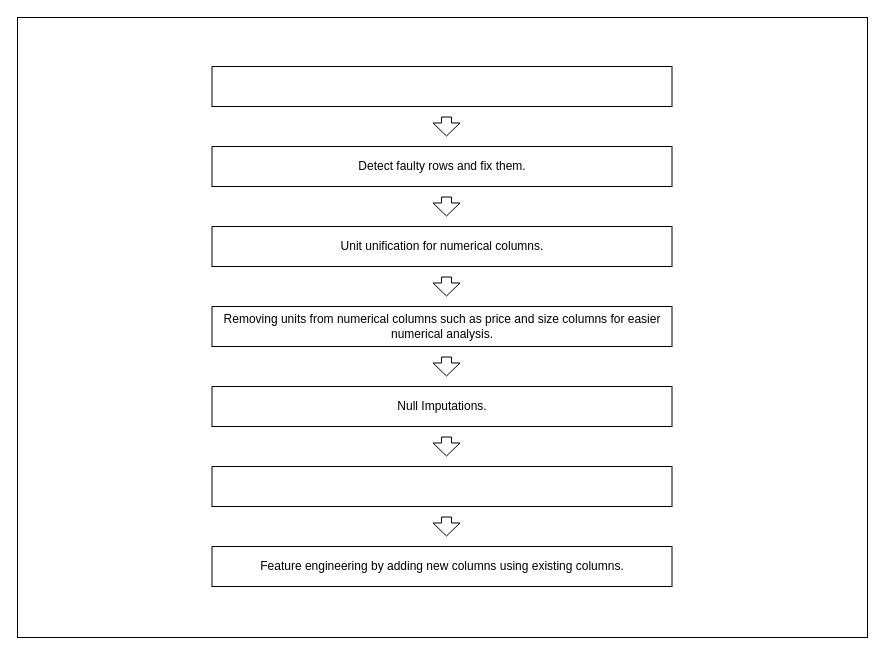
The diagram is 885 pixels wide and 655 high, and some of its shapes have lost their labels. Each missing label, with the centre of its shape:
"Drop Duplicate Rows." belongs at point (441, 86).
"Dropping rows having null values (less than 2% of the whole data)." belongs at point (441, 486).
